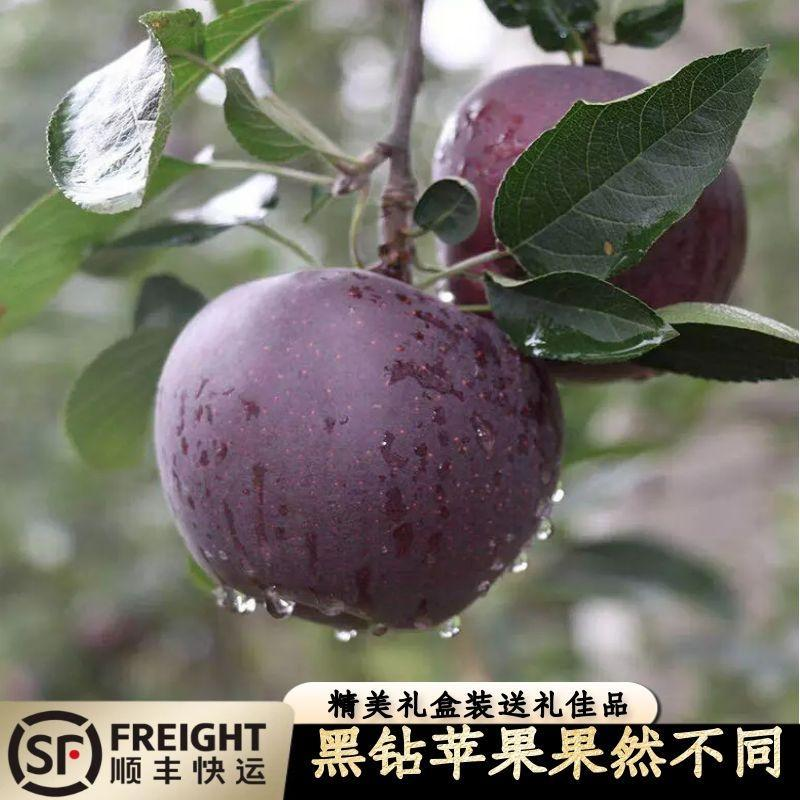apple: (151, 270, 560, 629), (434, 61, 748, 384)
